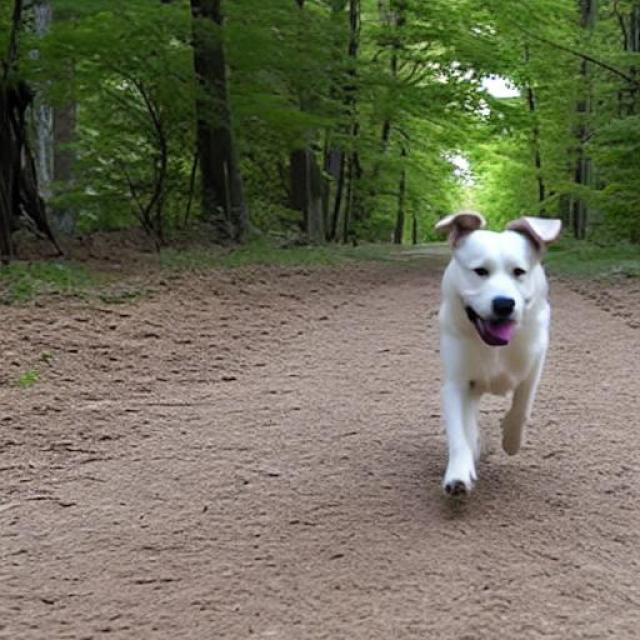Dog: (435, 209, 564, 502)
